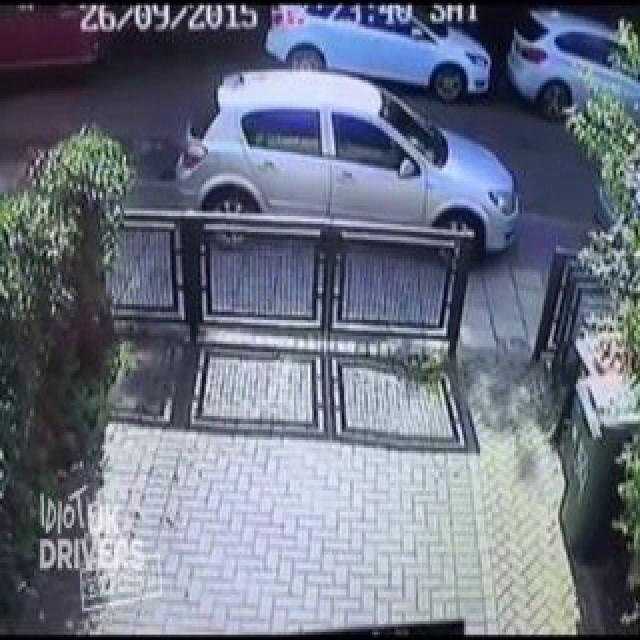road accidents: (142, 42, 569, 363)
